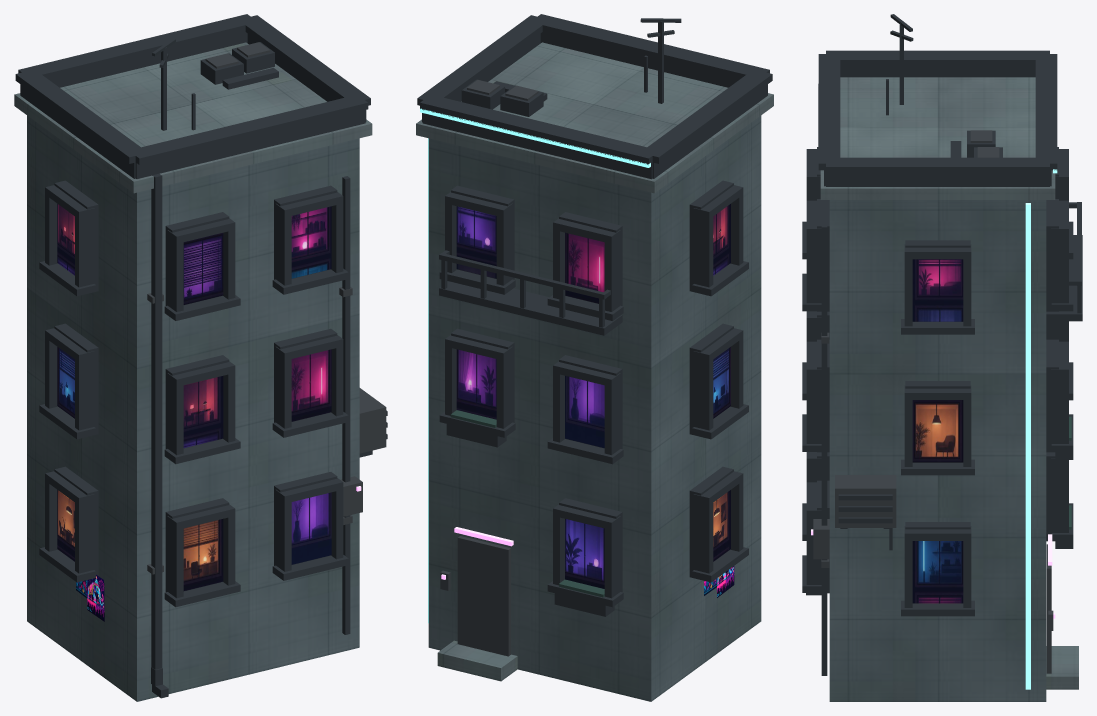
File: synthwave-house-b.glb
The picture shows the model from 3 angles, left to right: view 1: azimuth 30°, elevation 25°; view 2: azimuth 150°, elevation 25°; view 3: azimuth 270°, elevation 25°; orthographic projection.
Parts seen in each view (by area): view 1: House, House_Frame, House_HouseWinArt, House_Body2, House_Door, House_HousePosters, RK_AcBox016_12, RK_AcBox116_12, RK_AcDuct16_12; view 2: House, House_Frame, House_Body2, House_HouseWinArt, House_Door, House_NeonA, House_Foliage, RK_AcBox016_12, RK_AcBox116_12; view 3: House, House_Frame, House_Body2, House_HouseWinArt, House_Door, House_NeonA.
Part boxes in pixels (x1,y1,x2,y2): House: (27,115,359,701); House_Frame: (15,14,387,698); House_HouseWinArt: (57,204,331,590); House_Body2: (14,42,372,193); House_Door: (147,287,386,574); House_HousePosters: (76,575,104,621); RK_AcBox016_12: (200,53,243,84); RK_AcBox116_12: (232,42,274,73); RK_AcDuct16_12: (222,67,278,89); House: (428,115,761,701); House_Frame: (417,14,772,616); House_Body2: (416,42,773,681); House_HouseWinArt: (456,204,730,588); House_Door: (440,536,510,656); House_NeonA: (420,108,650,623); House_Foliage: (450,410,604,597); RK_AcBox016_12: (500,85,543,116); RK_AcBox116_12: (461,79,504,109); House: (829,200,1046,701); House_Frame: (802,50,1082,675); House_Body2: (820,77,1078,689); House_HouseWinArt: (912,259,963,603); House_Door: (813,332,1053,673); House_NeonA: (1025,169,1057,689).
Size of the model in its own units: 0.877 by 1.84 by 0.775.
10 materials, 4 textured.
